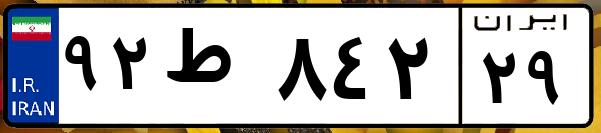2: (385, 28, 445, 110), (475, 38, 525, 113), (110, 28, 158, 98)
4: (330, 28, 385, 110)
8: (270, 28, 330, 110)
9: (57, 26, 110, 100), (525, 38, 570, 115)
ط: (158, 20, 270, 120)
